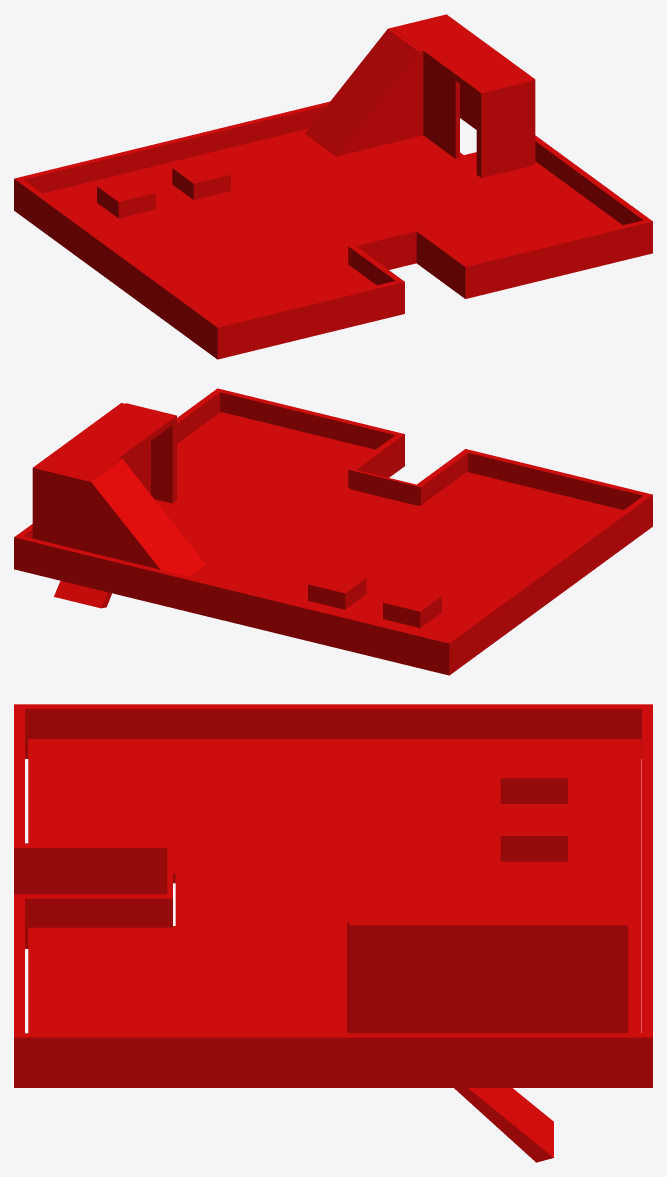
Rendered from SM_Bld_HighRise_Medium_01_Interior_Roof_01_Collision.fbx.
The picture shows the model from 3 angles, top to bottom: view 1: azimuth 30°, elevation 25°; view 2: azimuth 150°, elevation 25°; view 3: azimuth 270°, elevation 25°; orthographic projection. The views are drawn at different scales.
Visible parts, largest first — view 1: SM_Bld_HighRise_Medium_01_Interior_Roof_01_Collision; view 2: SM_Bld_HighRise_Medium_01_Interior_Roof_01_Collision; view 3: SM_Bld_HighRise_Medium_01_Interior_Roof_01_Collision.
Boxes of the visible parts, x1,y1,x2,y2 form: SM_Bld_HighRise_Medium_01_Interior_Roof_01_Collision: (14,14,652,359); SM_Bld_HighRise_Medium_01_Interior_Roof_01_Collision: (14,388,652,675); SM_Bld_HighRise_Medium_01_Interior_Roof_01_Collision: (14,704,652,1162).
Size of the model in its own units: 1338 by 441 by 1083.
